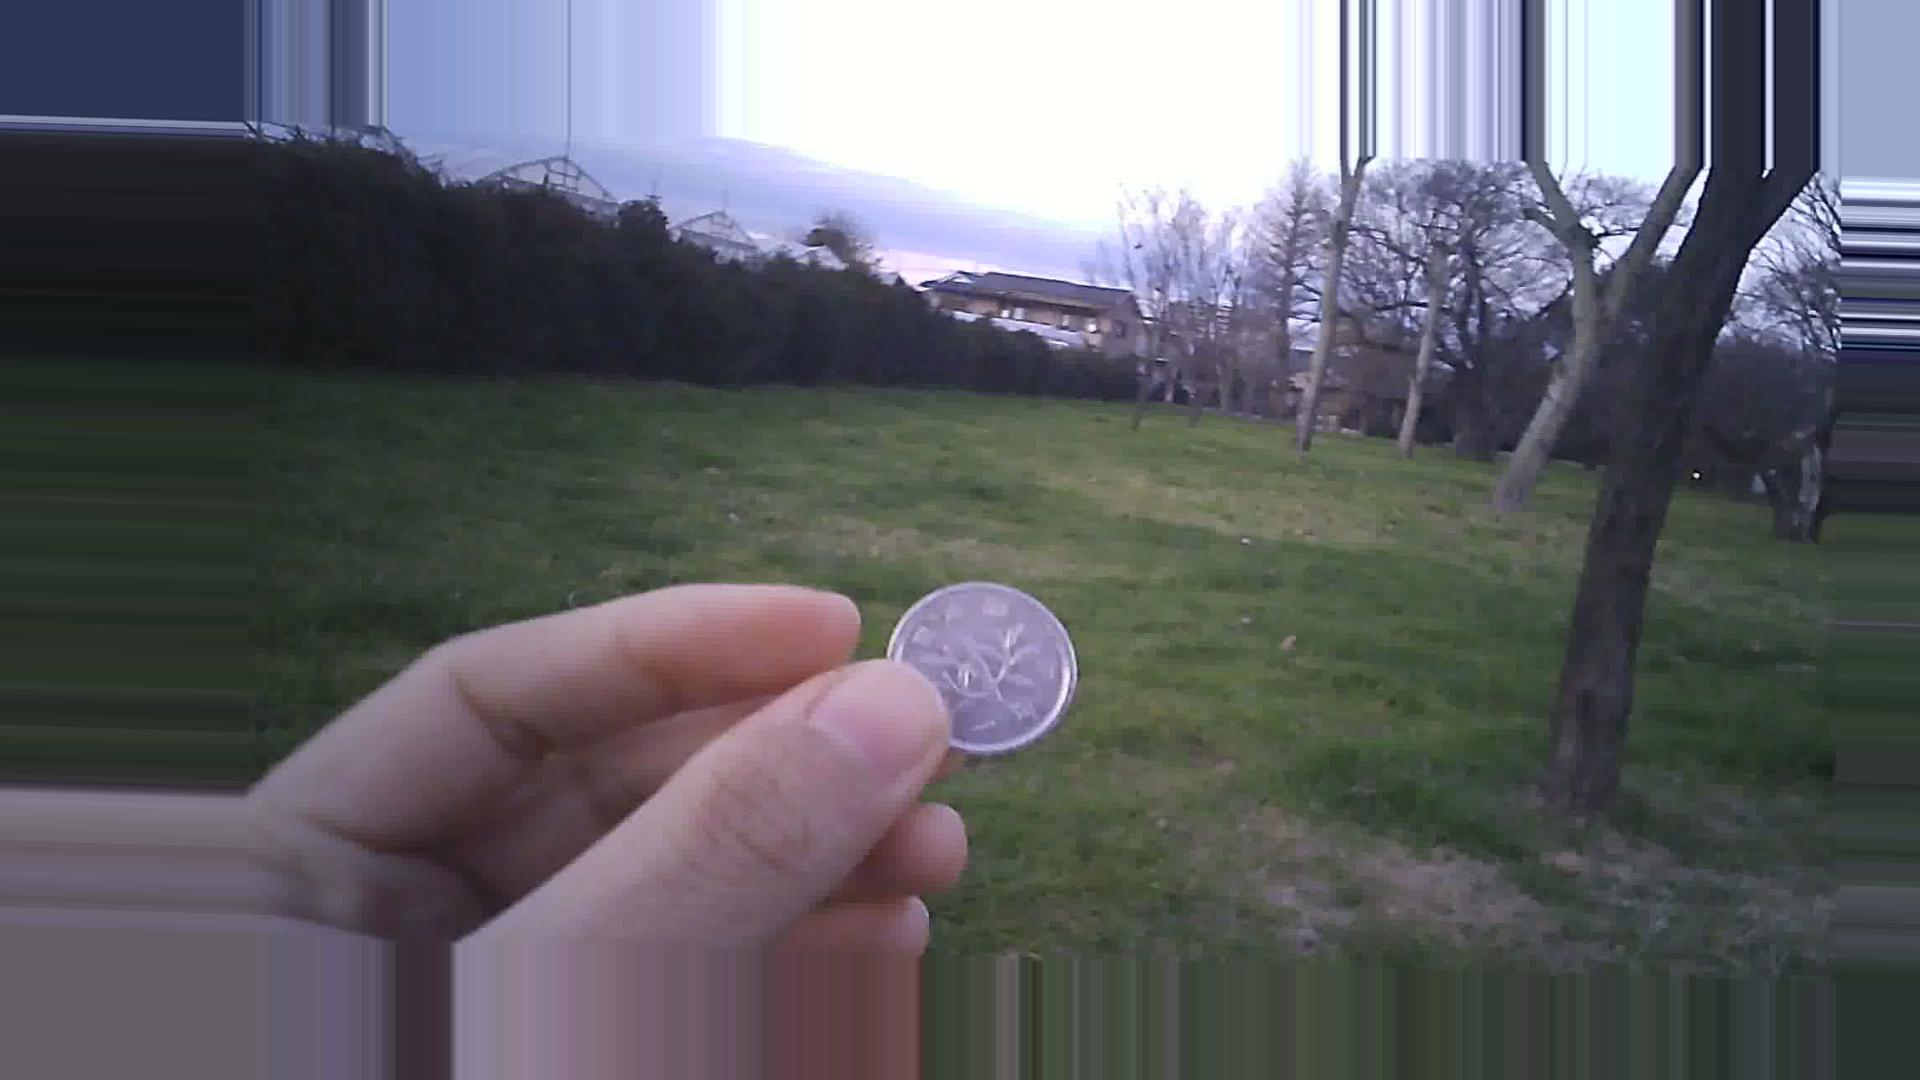1 Yen: (882, 568, 1093, 773)
